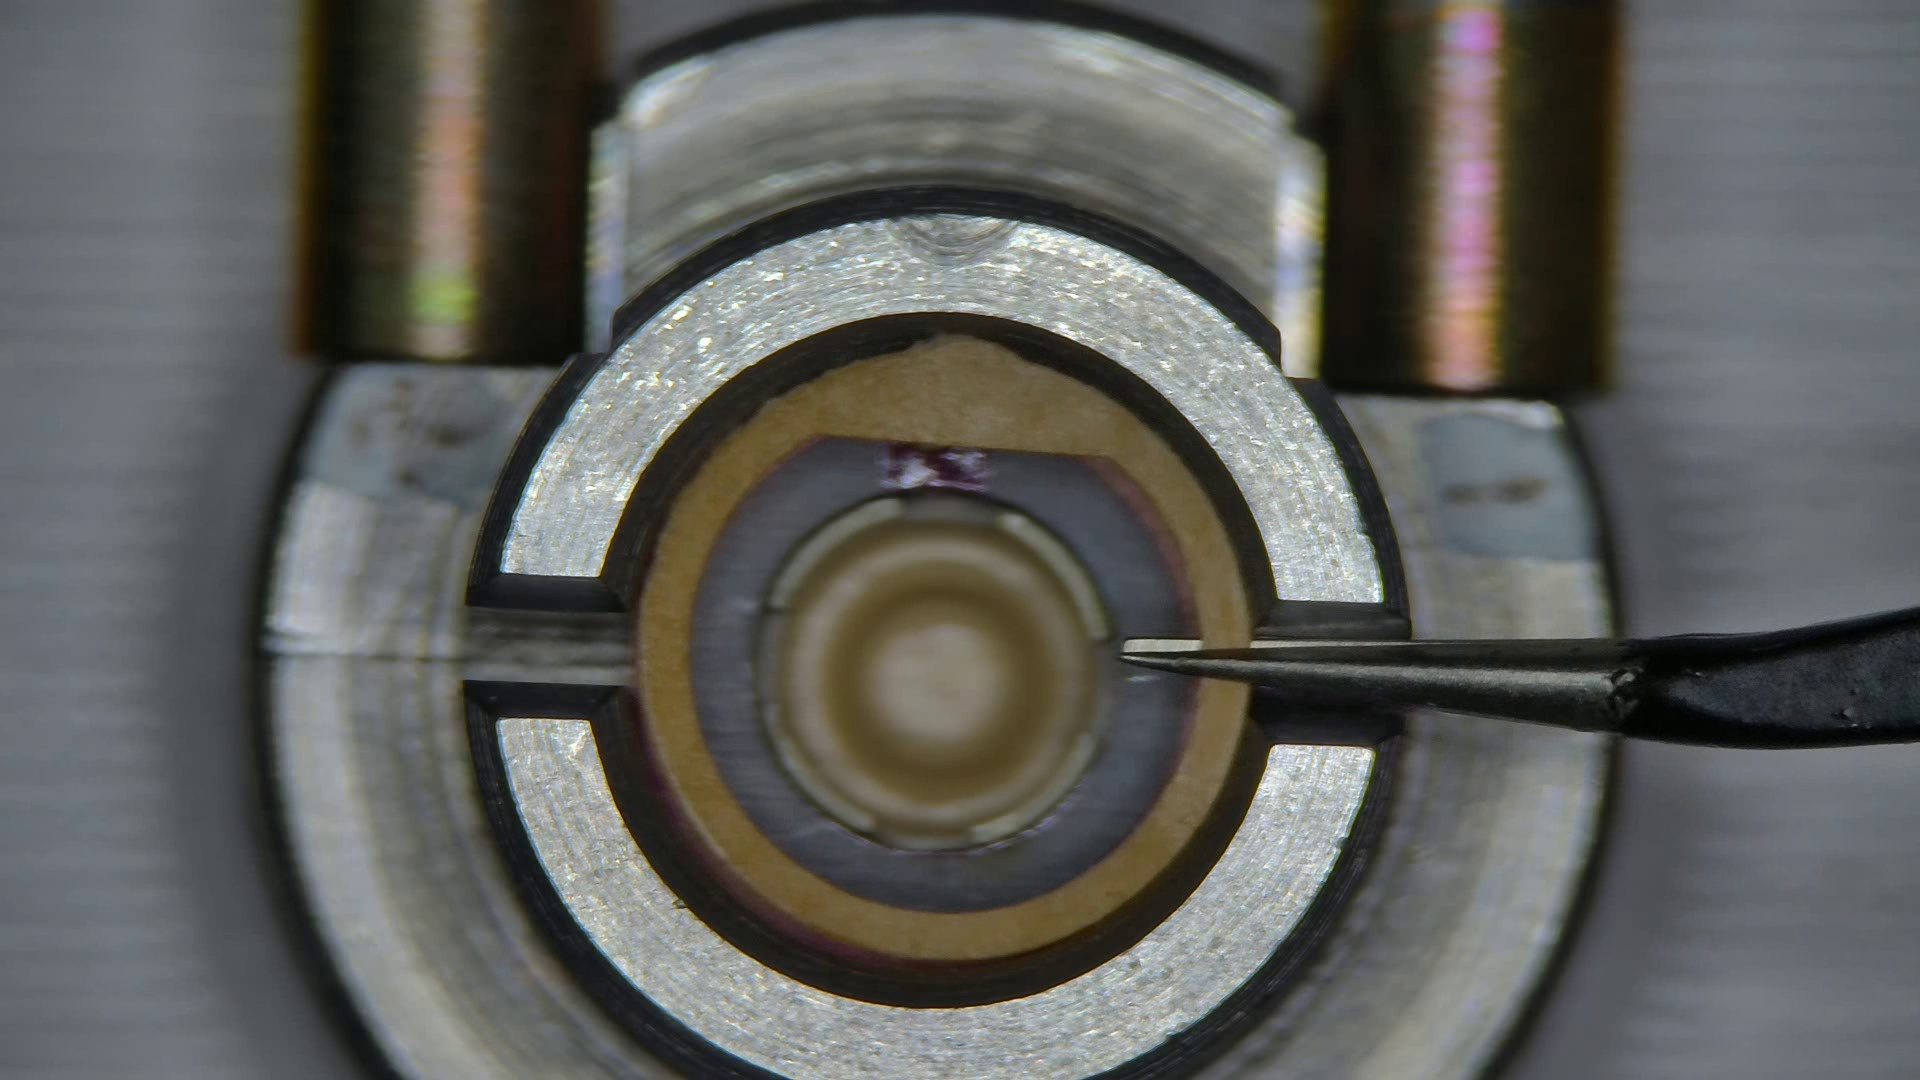GreyOring: (767, 914, 924, 963), (663, 781, 705, 852), (707, 855, 749, 897), (1011, 953, 1033, 963), (650, 752, 655, 775), (756, 905, 765, 911)
YellowOring: (694, 446, 1185, 910)
redOring: (638, 336, 1251, 959)
